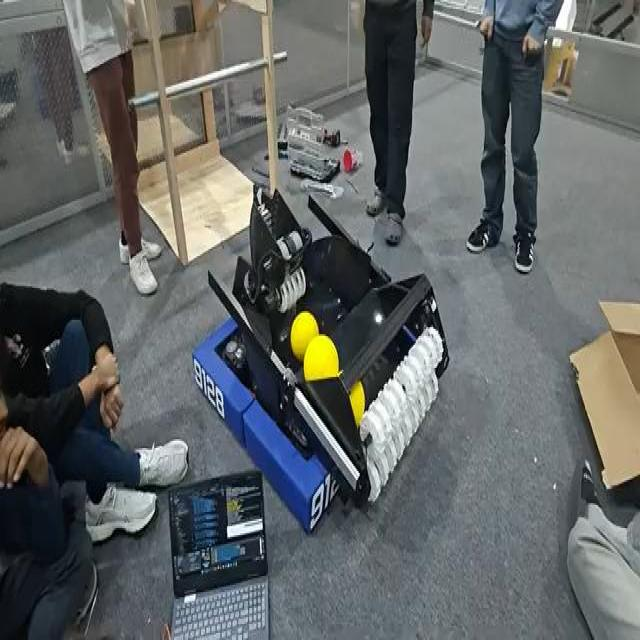Fuel: (303, 334, 338, 379), (290, 311, 320, 362), (290, 311, 318, 359), (348, 379, 365, 428), (349, 382, 366, 427)
